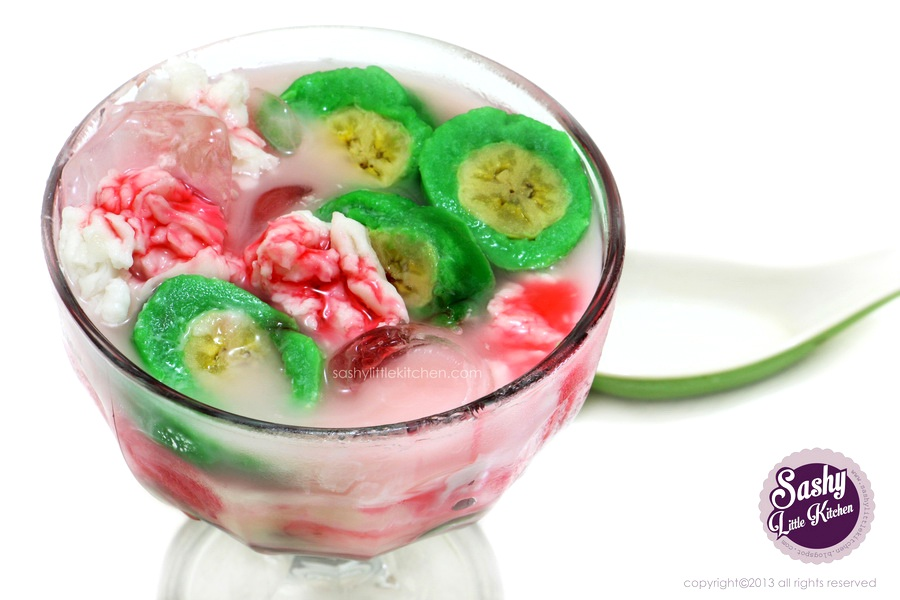pisang_ijo: (380, 88, 612, 276)
